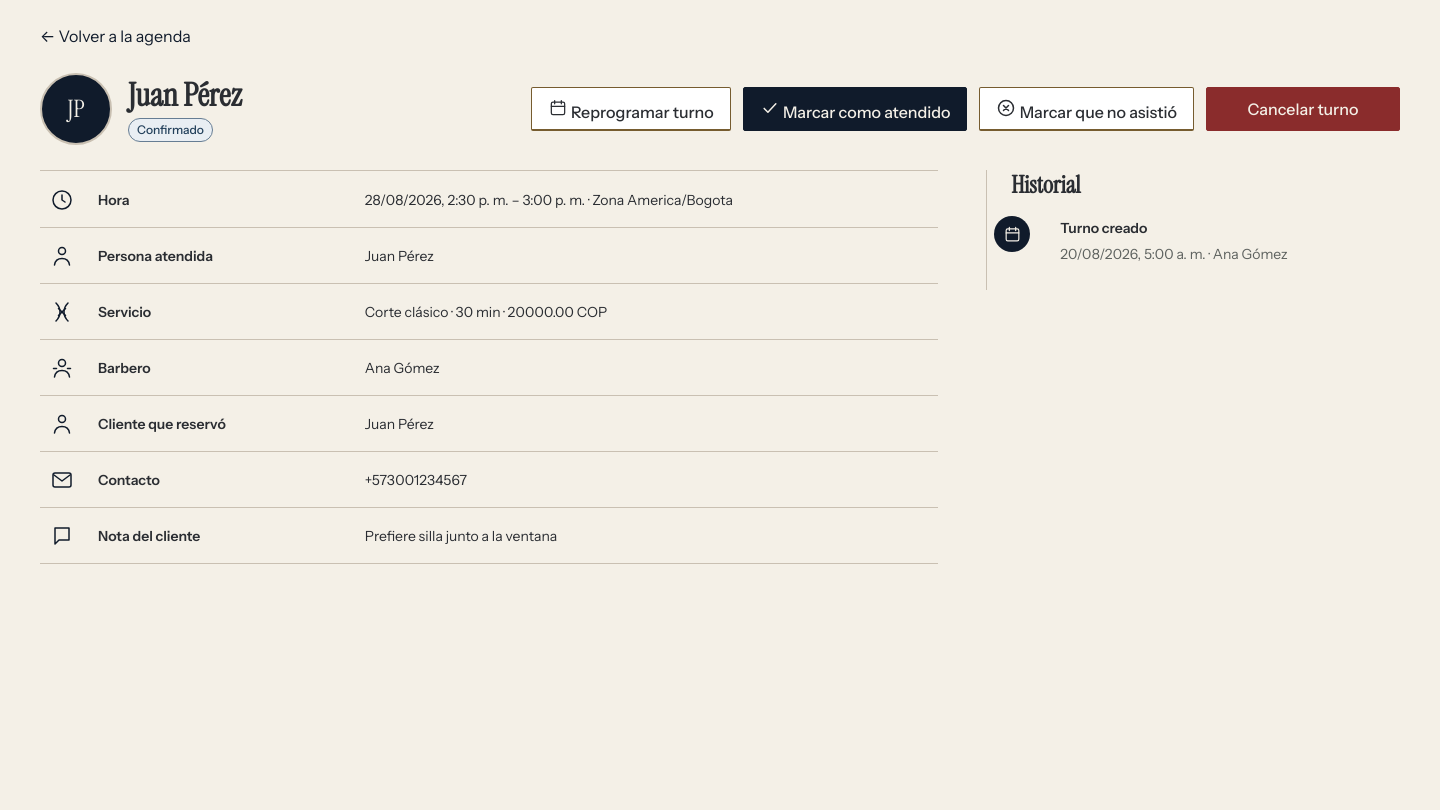
Test case: AppointmentDetailPage › on an invalid-state conflict, offers a reload with the same recoverable message
The image size is (1440, 810).
Click the button "Reprogramar turno" at (631,109), box [531, 87, 731, 131]
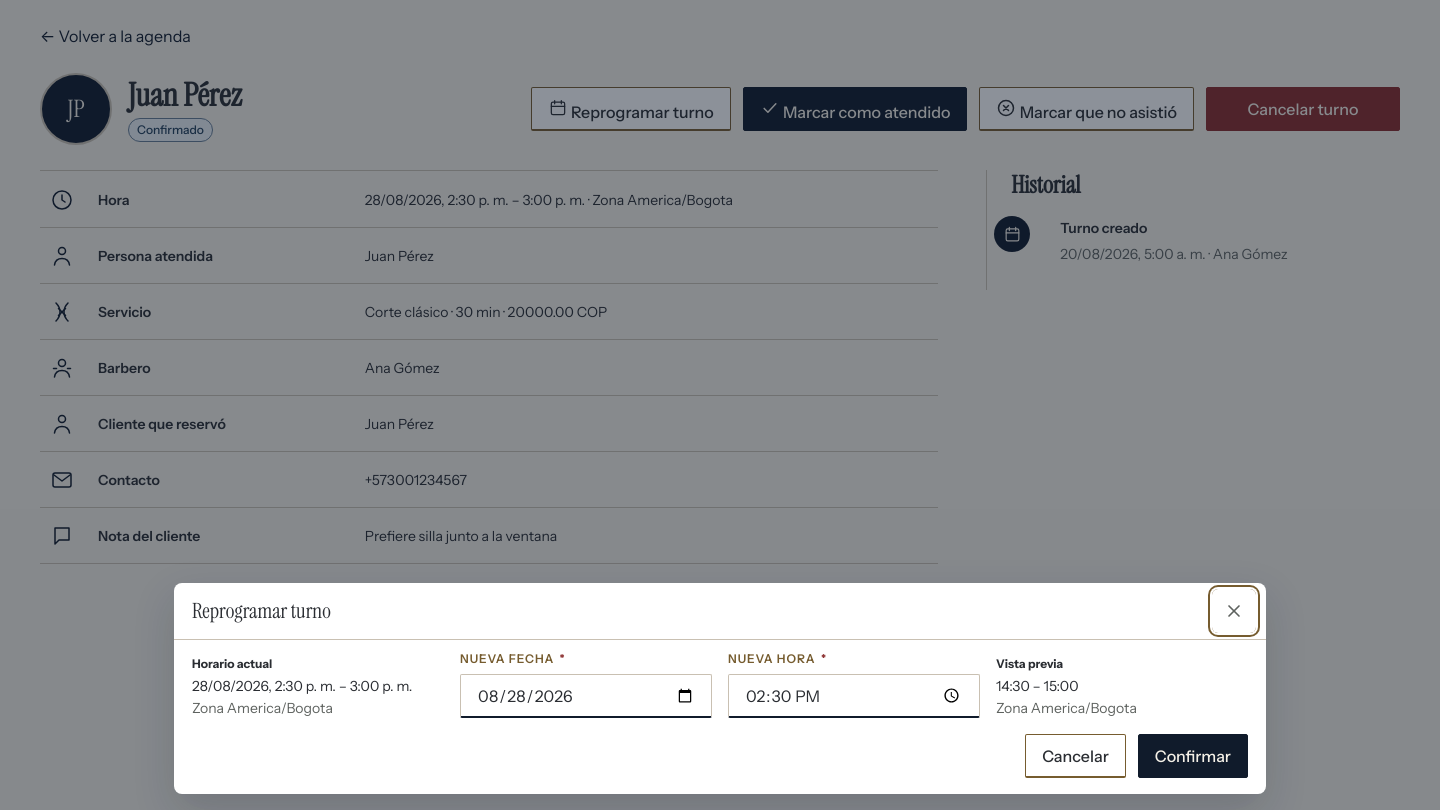
Submit the form, box [192, 652, 1248, 778]
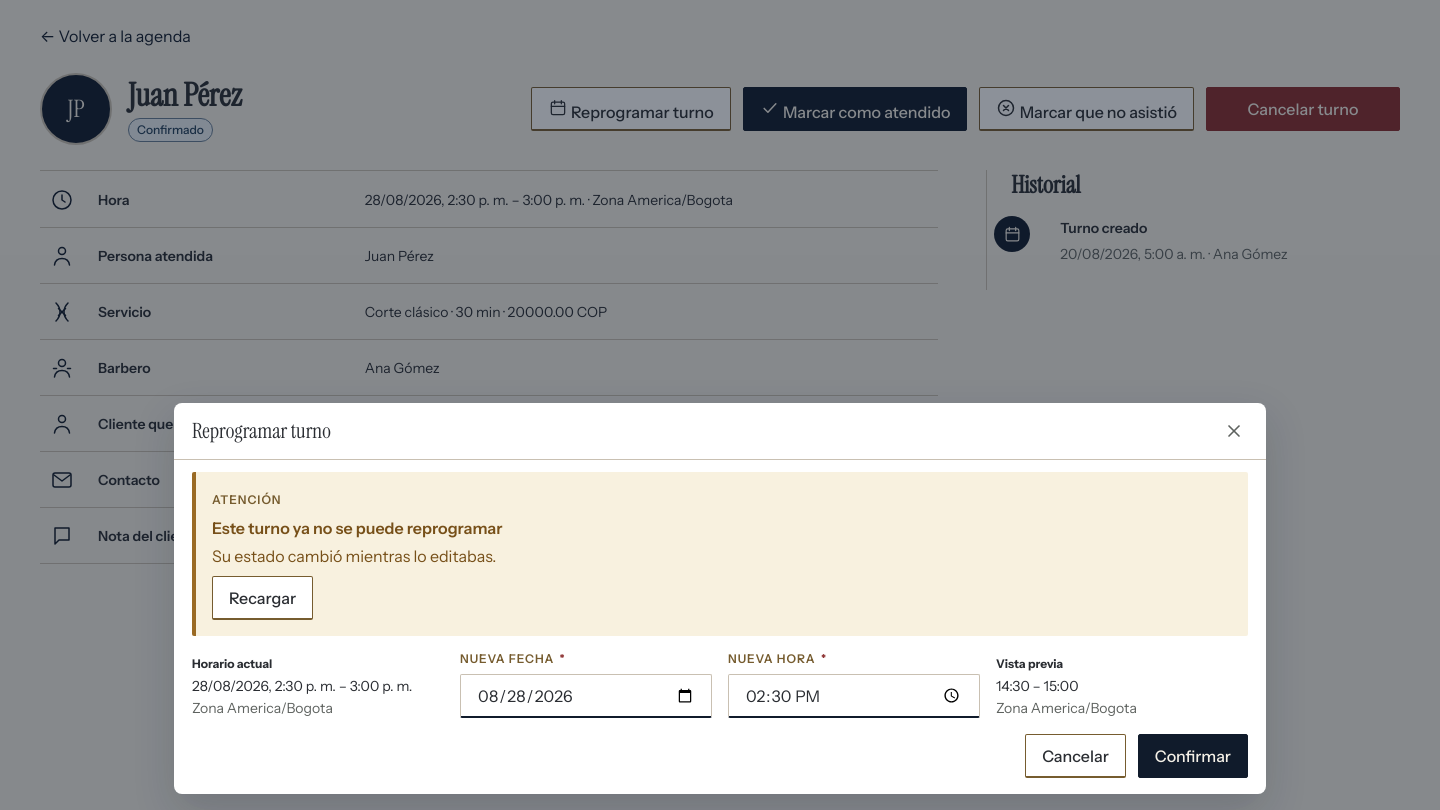
Check: the text "ya no se puede reprogramar" is shown, box [212, 518, 502, 538]
